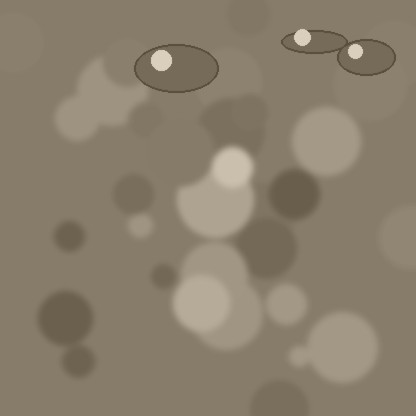gota: (134, 46, 218, 96), (337, 40, 395, 78), (281, 31, 347, 55)
